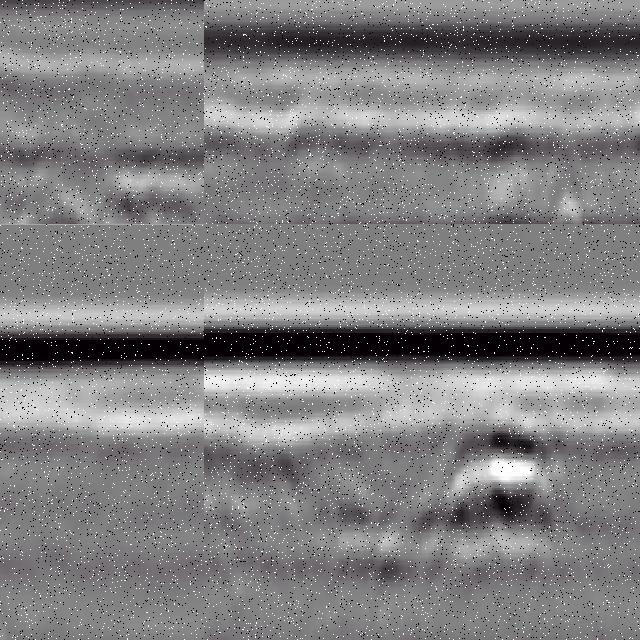loose: (405, 411, 562, 560), (2, 139, 205, 225)
